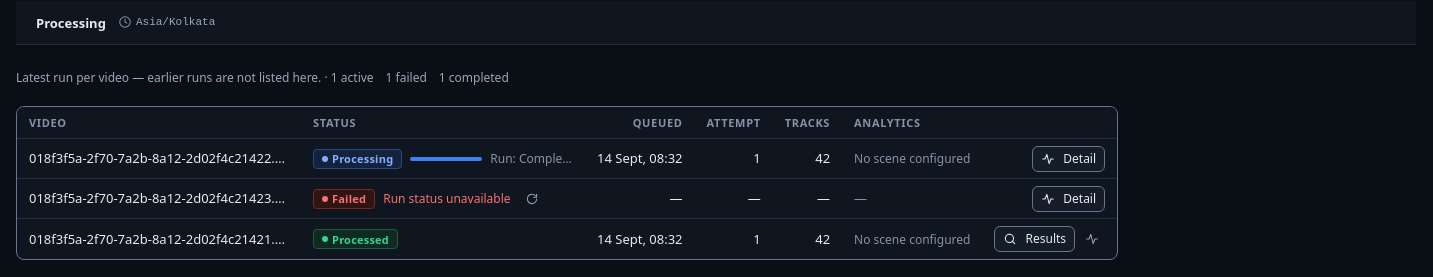
Test: ProcessingQueuePage › shows a per-video status failure with a retry instead of loading forever
Expected: the text "Run status unavailable" is shown, x1=383 y1=190 x2=511 y2=208
Click the button named "retry".
click(532, 199)  # box x1=519 y1=186 x2=545 y2=212
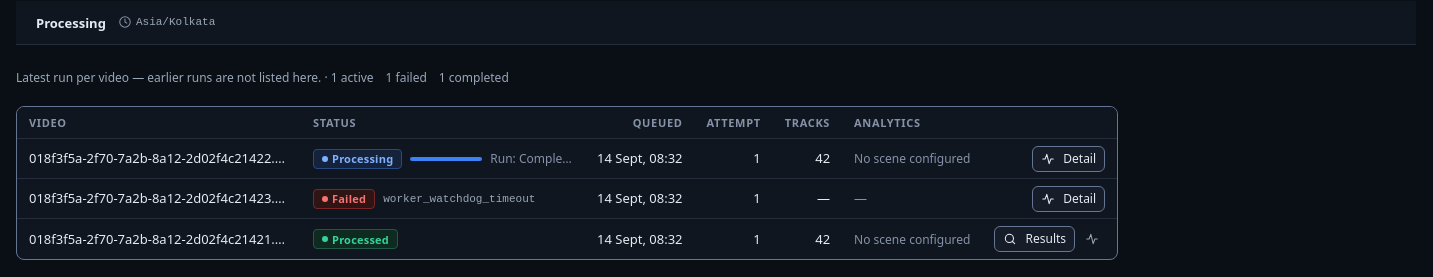
Expected: the text "worker_watchdog_timeout" is shown, x1=383 y1=191 x2=536 y2=207
